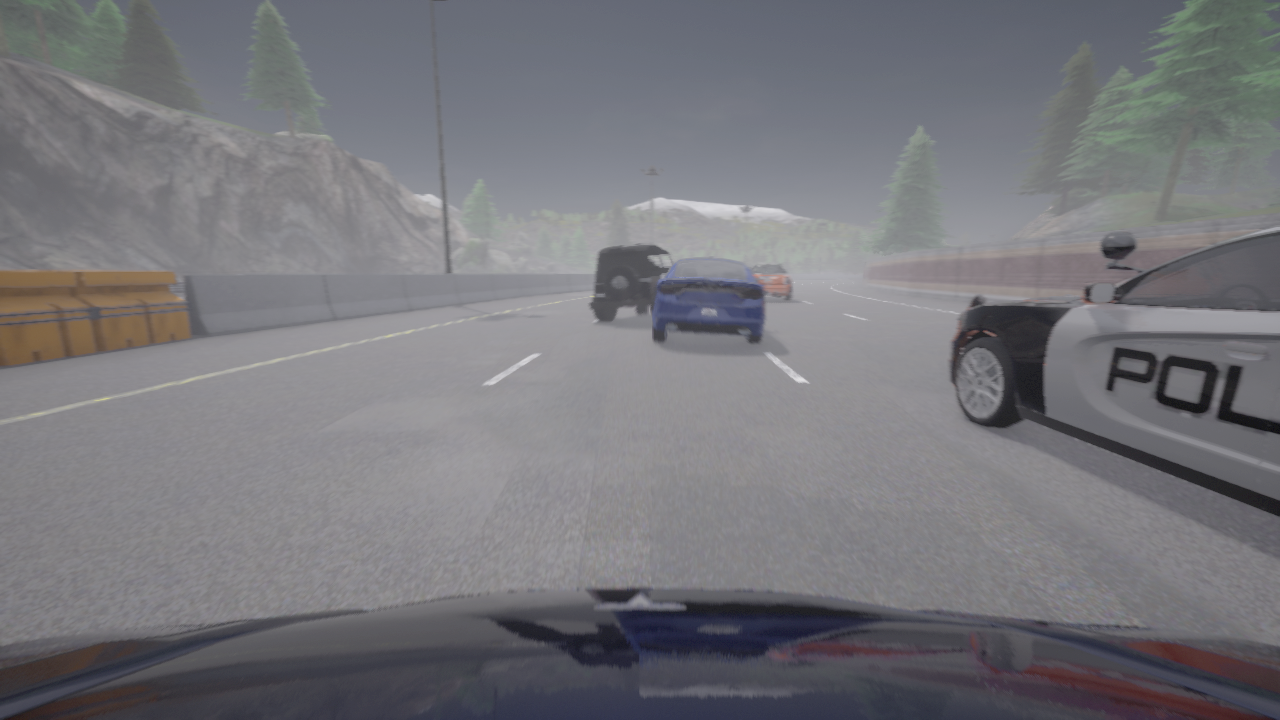cyclist: (0, 588, 1279, 719), (949, 225, 1279, 517), (652, 257, 764, 342), (590, 244, 672, 320), (749, 260, 791, 300)
